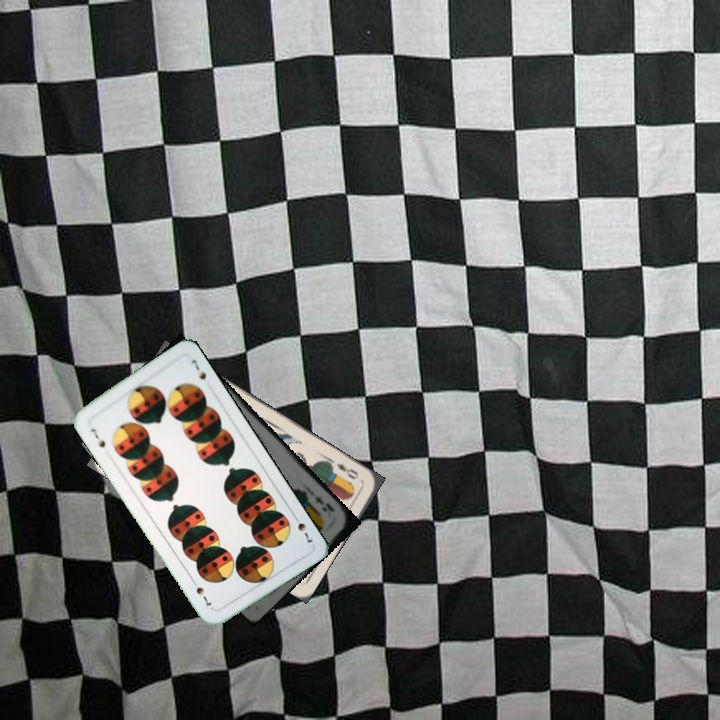EK: (311, 492, 337, 515)
EO: (332, 459, 361, 482)
S7: (289, 510, 315, 546), (86, 424, 108, 450)
